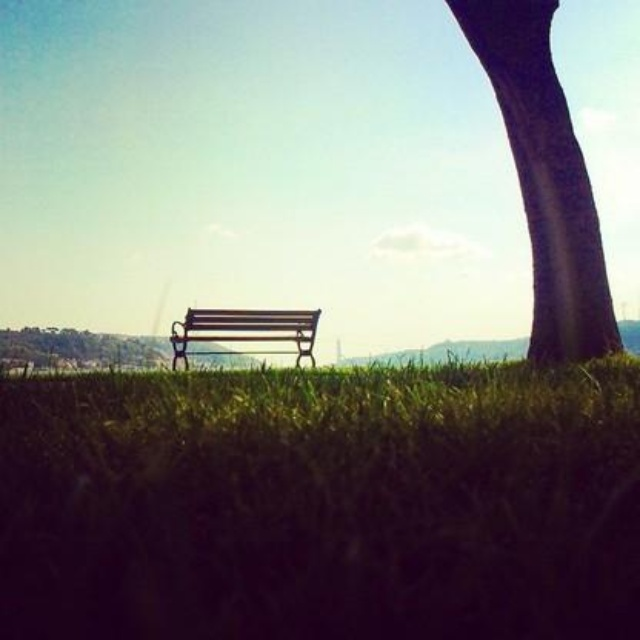obstacle: (163, 303, 334, 385)
